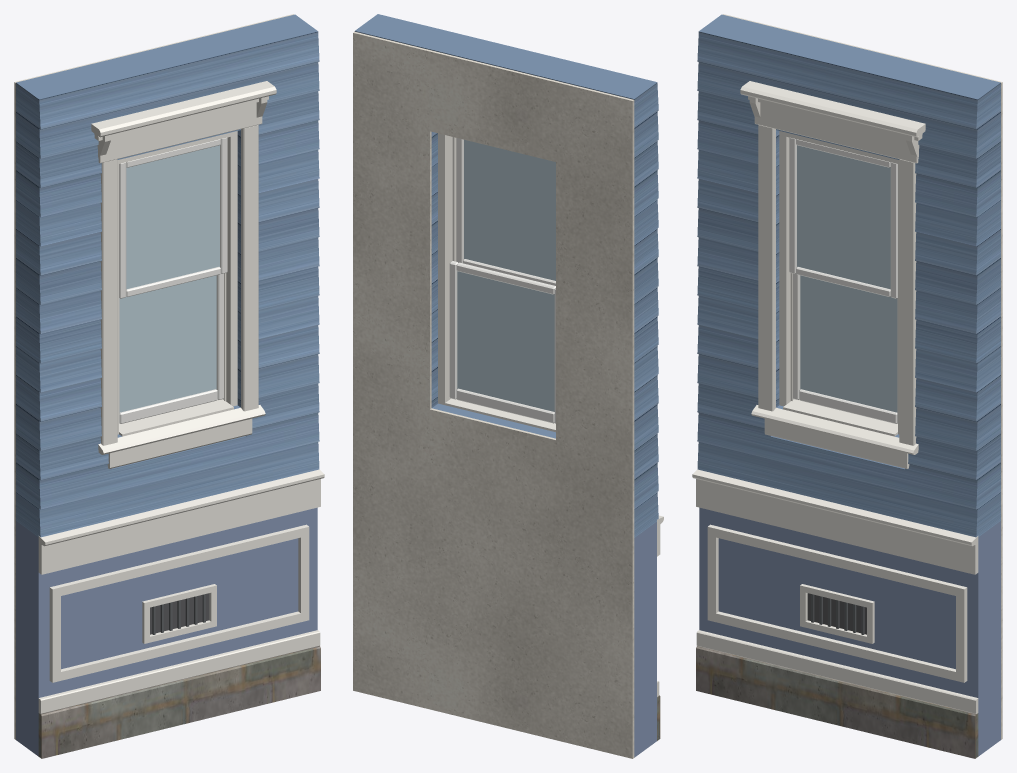
The model's file is b_g_win_d.glb.
3 views of the same model, side by side, from view 1: azimuth 30°, elevation 25°; view 2: azimuth 150°, elevation 25°; view 3: azimuth 330°, elevation 25° (orthographic).
Visible parts, largest first — view 1: b_g_win_d_siding_d, b_g_win_d_trim, b_g_win_d_acc_d, b_g_win_d_glass, b_g_win_d_plinth, b_g_win_d_sash, b_g_win_d_frame, b_g_win_d_plaster, b_g_win_d_dark, b_g_win_d_iron; view 2: b_g_win_d_plaster, b_g_win_d_glass, b_g_win_d_siding_d, b_g_win_d_sash, b_g_win_d_acc_d, b_g_win_d_frame, b_g_win_d_trim; view 3: b_g_win_d_siding_d, b_g_win_d_trim, b_g_win_d_acc_d, b_g_win_d_glass, b_g_win_d_plinth, b_g_win_d_sash, b_g_win_d_frame, b_g_win_d_plaster, b_g_win_d_dark, b_g_win_d_iron.
Boxes of the visible parts, x1,y1,x2,y2 form: b_g_win_d_siding_d: (16, 14, 319, 537); b_g_win_d_trim: (38, 81, 324, 713); b_g_win_d_acc_d: (16, 507, 317, 756); b_g_win_d_glass: (119, 145, 219, 412); b_g_win_d_plinth: (38, 646, 320, 758); b_g_win_d_sash: (119, 137, 227, 423); b_g_win_d_frame: (117, 131, 237, 434); b_g_win_d_plaster: (14, 14, 293, 739); b_g_win_d_dark: (150, 593, 209, 634); b_g_win_d_iron: (152, 594, 205, 634); b_g_win_d_plaster: (353, 31, 634, 758); b_g_win_d_glass: (457, 139, 555, 411); b_g_win_d_siding_d: (354, 14, 658, 537); b_g_win_d_sash: (449, 138, 555, 423); b_g_win_d_acc_d: (634, 522, 656, 757); b_g_win_d_frame: (438, 133, 456, 404); b_g_win_d_trim: (445, 398, 663, 696); b_g_win_d_siding_d: (697, 14, 1000, 537); b_g_win_d_trim: (692, 81, 978, 713); b_g_win_d_acc_d: (699, 507, 1000, 756); b_g_win_d_glass: (797, 145, 897, 412); b_g_win_d_plinth: (696, 646, 978, 758); b_g_win_d_sash: (789, 137, 897, 423); b_g_win_d_frame: (779, 131, 899, 434); b_g_win_d_plaster: (723, 14, 1002, 739); b_g_win_d_dark: (807, 593, 866, 634); b_g_win_d_iron: (811, 594, 864, 634).
Size of the model in its own units: 2 by 4.5 by 0.43.
Materials: 10 (3 with a texture image).
